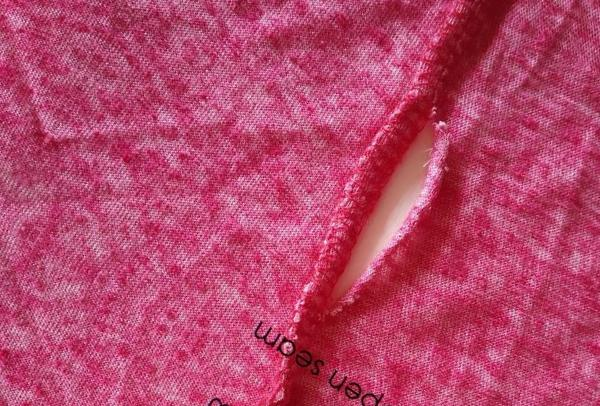hole: (321, 113, 449, 324)
